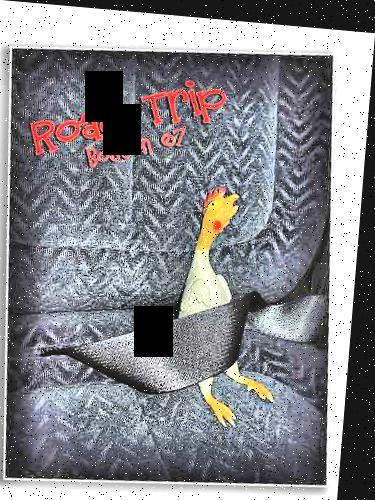seatbelt: (37, 275, 330, 396)
